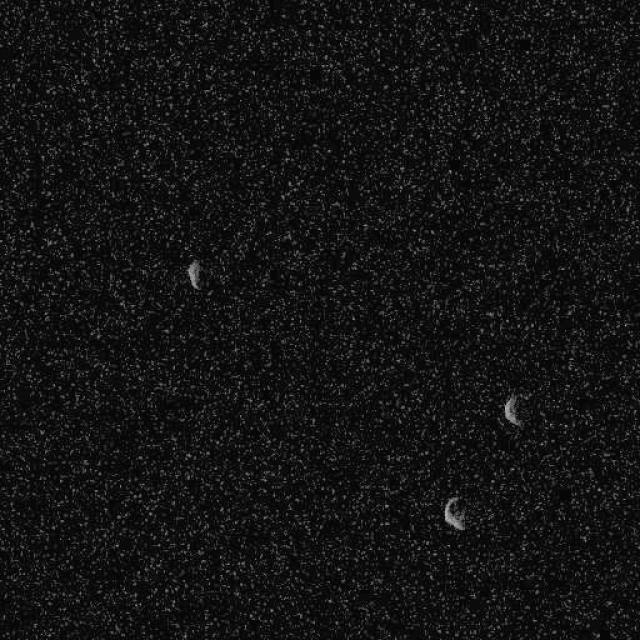D2: (442, 495, 467, 531), (502, 392, 522, 428), (185, 258, 201, 290)
